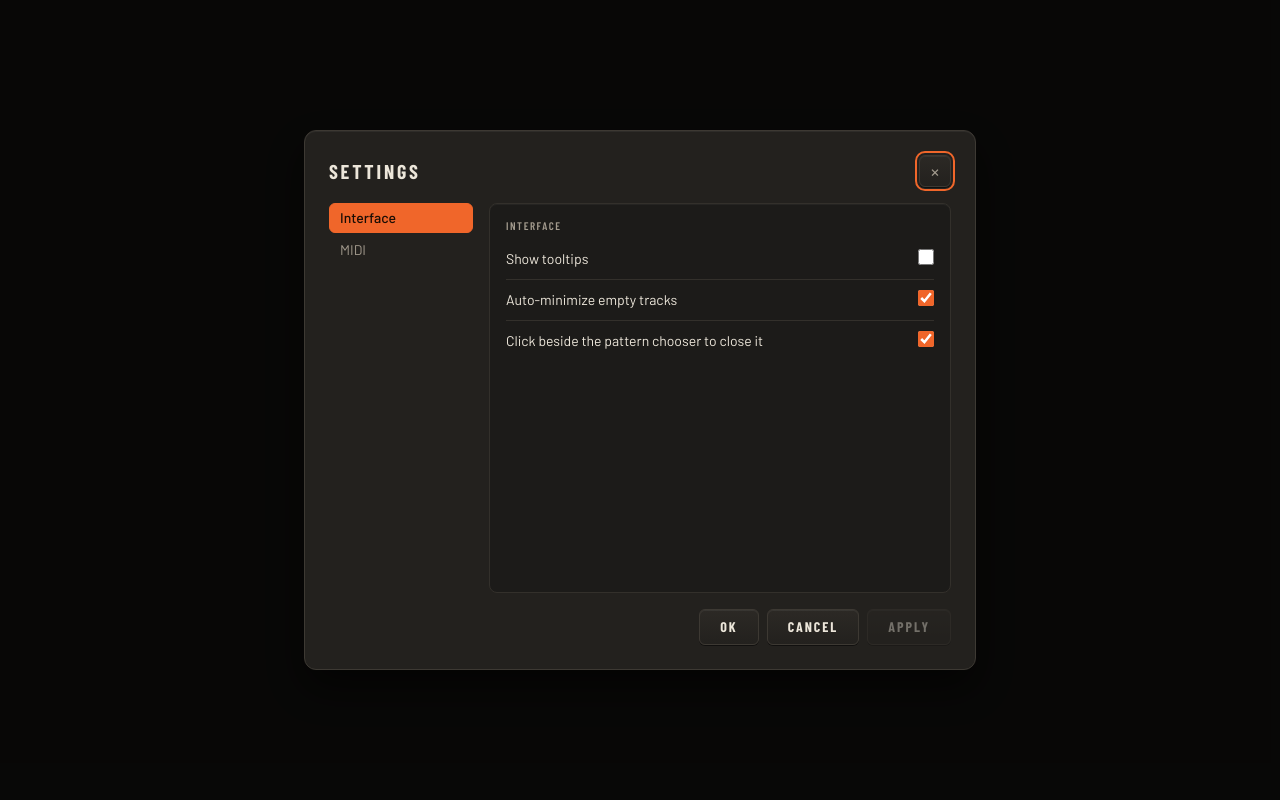
Test: SettingsModal › double-clicking one Interface label resets only that field
Double-click the text "Show tooltips": (547,258) [506,250,588,267]
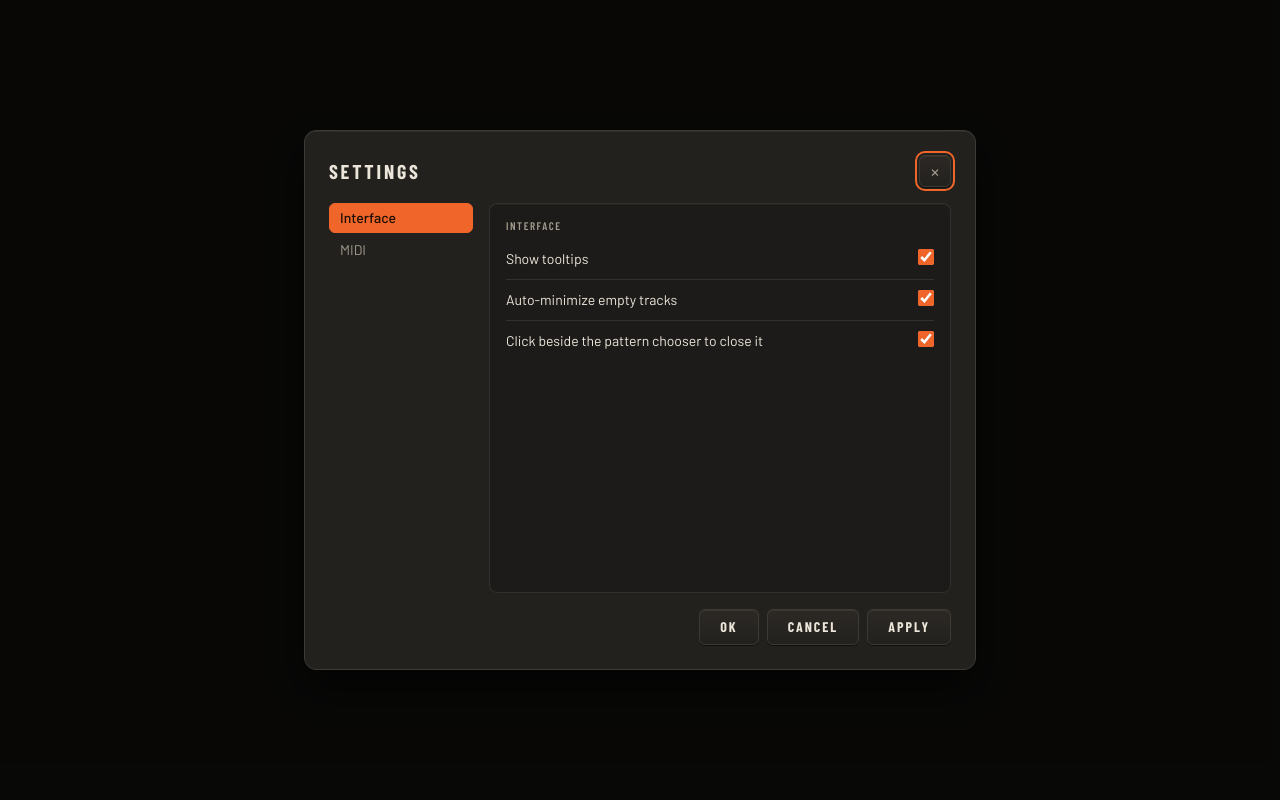
Check: the checkbox labelled "Auto-minimize empty tracks" is checked, box [918,290,934,306]
Check: the checkbox labelled "Show tooltips" is checked, box [918,249,934,265]
